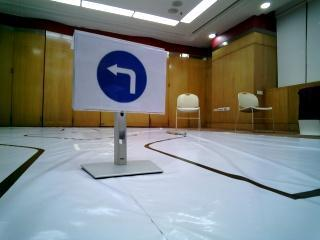left: (75, 31, 164, 114)
